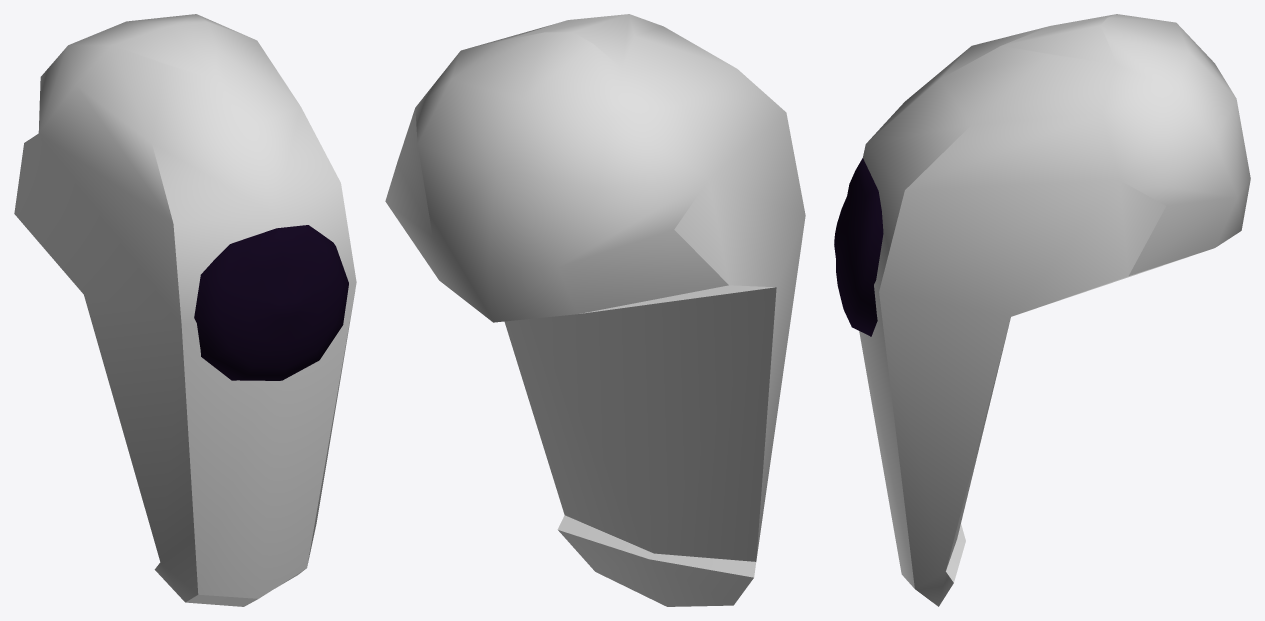
The model's file is Cabeca_2.fbx.
The picture shows the model from 3 angles, left to right: view 1: azimuth 30°, elevation 25°; view 2: azimuth 150°, elevation 25°; view 3: azimuth 270°, elevation 25°; orthographic projection. The views are drawn at different scales.
Parts seen in each view (by area): view 1: Cabeca_2; view 2: Cabeca_2; view 3: Cabeca_2.
Part boxes in pixels (x1,y1,x2,y2): Cabeca_2: (14, 14, 356, 606); Cabeca_2: (385, 14, 805, 606); Cabeca_2: (834, 14, 1250, 606).
Size of the model in its own units: 75.86 by 136 by 89.99.
